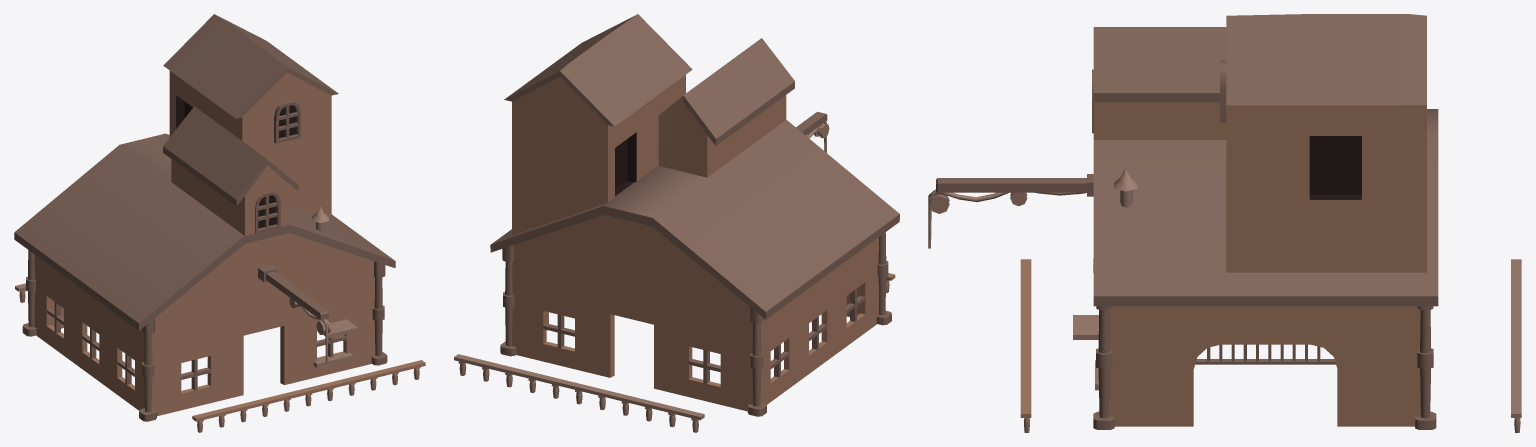
File: tree-house.glb
The picture shows the model from 3 angles, left to right: view 1: azimuth 30°, elevation 25°; view 2: azimuth 150°, elevation 25°; view 3: azimuth 270°, elevation 25°; orthographic projection. The views are drawn at different scales.
Parts seen in each view (by area): view 1: SM_Cabin; view 2: SM_Cabin; view 3: SM_Cabin.
Boxes of the visible parts, left/top/right/bottom form: SM_Cabin: left=14, top=14, right=425, bottom=432; SM_Cabin: left=454, top=14, right=899, bottom=432; SM_Cabin: left=928, top=14, right=1521, bottom=432.
Size of the model in its own units: 11.04 by 11.17 by 15.79.
